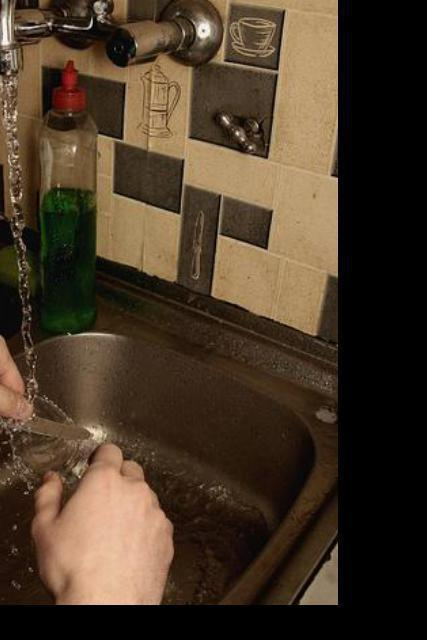Lavaplatos: (0, 0, 413, 640)
